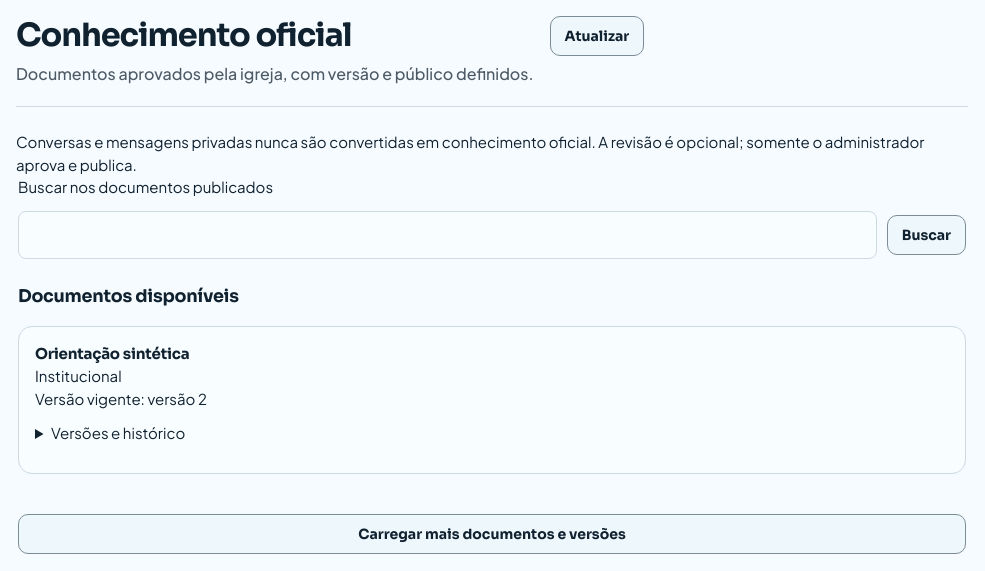
Test: carrega outra página e preserva versões já recebidas sem duplicar documentos
Click the button "Carregar mais documentos e versões" at (492, 534), box [18,514,966,554]
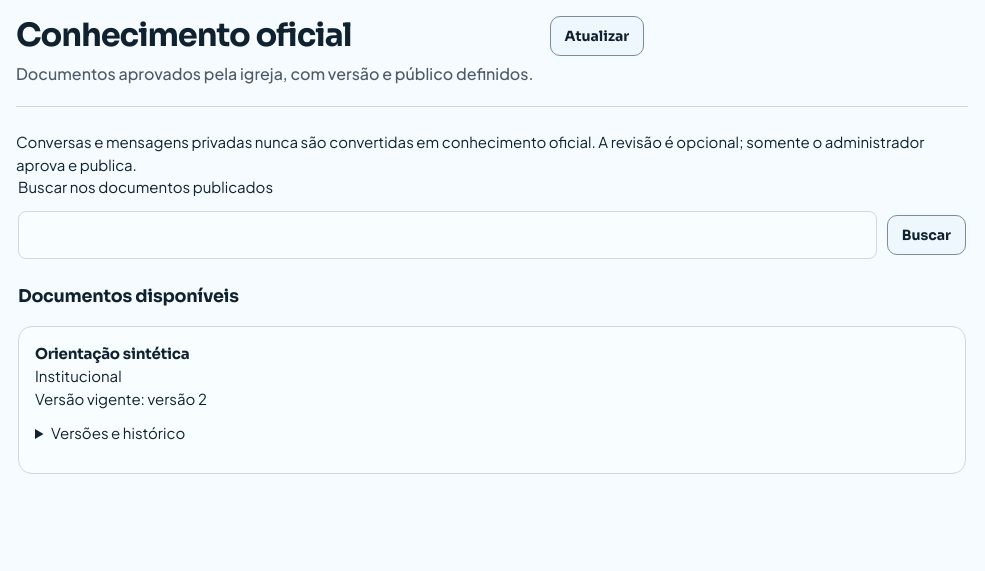
Expected: the text "versão 2" is shown, [148,389,207,408]
Result: the text "Carregar mais documentos e versões" is gone
